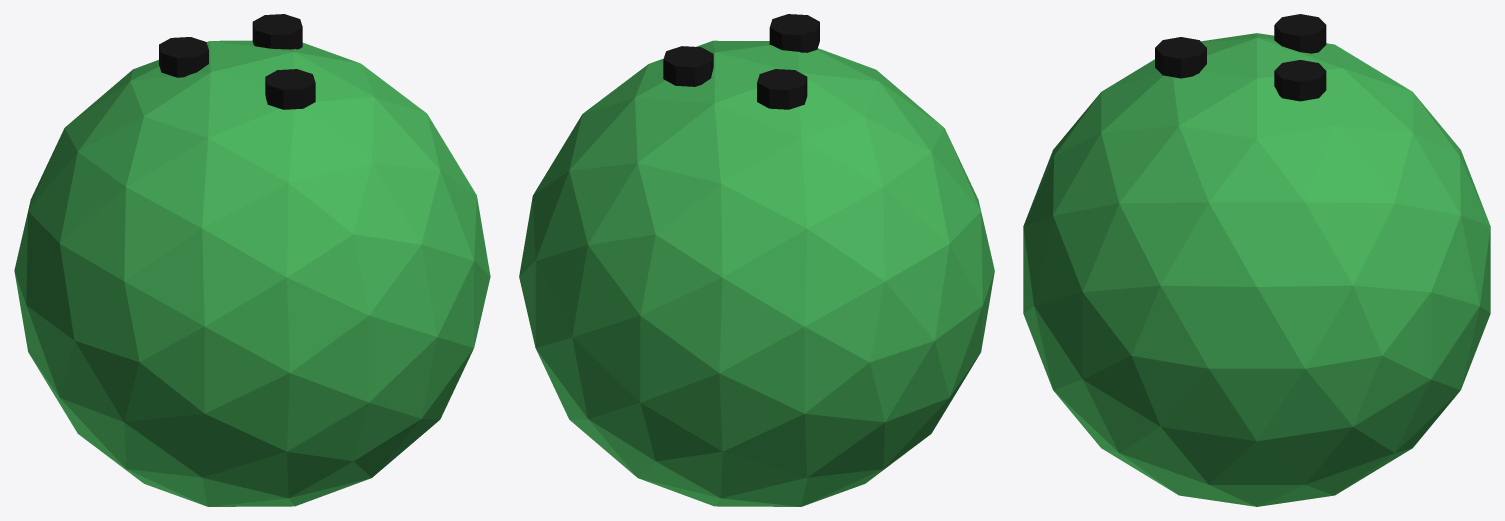
File: bowling_ball_2.glb
The picture shows the model from 3 angles, left to right: view 1: azimuth 30°, elevation 25°; view 2: azimuth 150°, elevation 25°; view 3: azimuth 270°, elevation 25°; orthographic projection.
Parts seen in each view (by area): view 1: ball, hole_ball_hole; view 2: ball, hole_ball_hole; view 3: ball, hole_ball_hole.
Boxes of the visible parts, x1,y1,x2,y2 form: ball: (14, 40, 490, 506); hole_ball_hole: (159, 14, 315, 109); ball: (519, 40, 994, 506); hole_ball_hole: (663, 14, 819, 109); ball: (1023, 33, 1490, 506); hole_ball_hole: (1155, 14, 1326, 101).
Bounding box in the file's own units: 0.2155 × 0.2207 × 0.2155.
